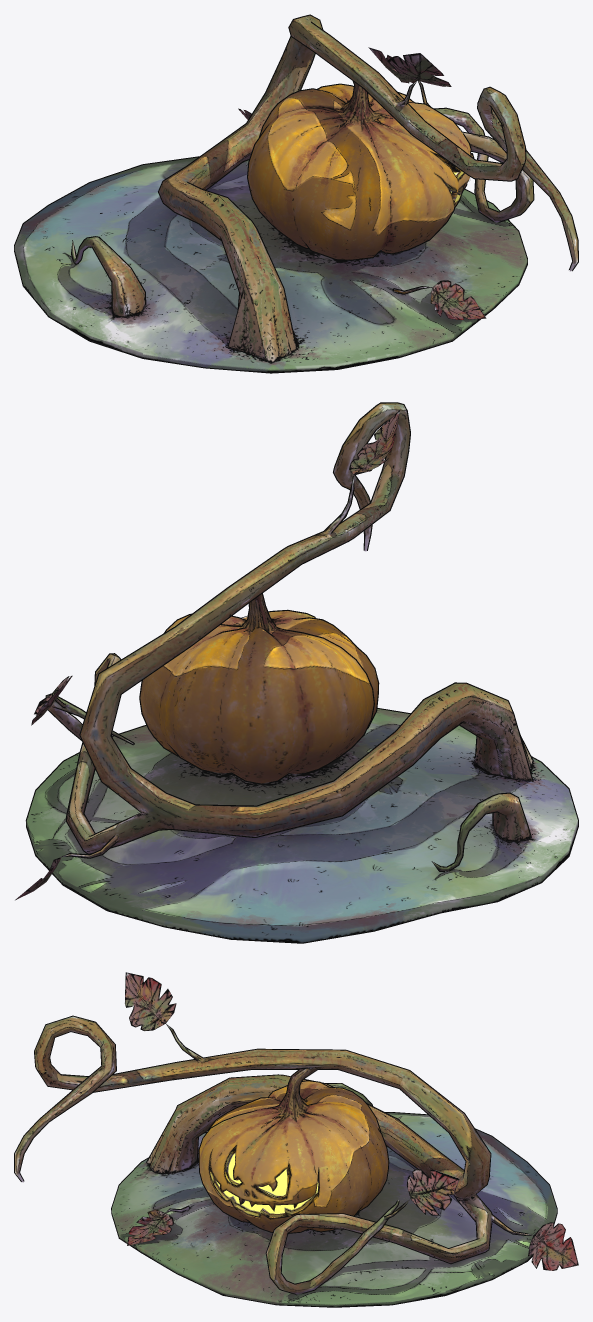
The picture shows the model from 3 angles, top to bottom: view 1: azimuth 30°, elevation 25°; view 2: azimuth 150°, elevation 25°; view 3: azimuth 270°, elevation 25°; orthographic projection. The views are drawn at different scales.
Visible parts, largest first — view 1: step4, outline; view 2: step4, outline; view 3: step4, outline, mouth.
Part boxes in pixels (left/top/right/bottom): step4: left=14, top=15, right=577, bottom=372; outline: left=14, top=14, right=578, bottom=373; step4: left=15, top=403, right=577, bottom=942; outline: left=25, top=402, right=578, bottom=943; step4: left=15, top=972, right=578, bottom=1306; outline: left=14, top=1015, right=557, bottom=1307; mouth: left=216, top=1153, right=318, bottom=1213.
Size of the model in its own units: 4.81 by 3.01 by 6.02.
Materials: 3 (1 with a texture image).
